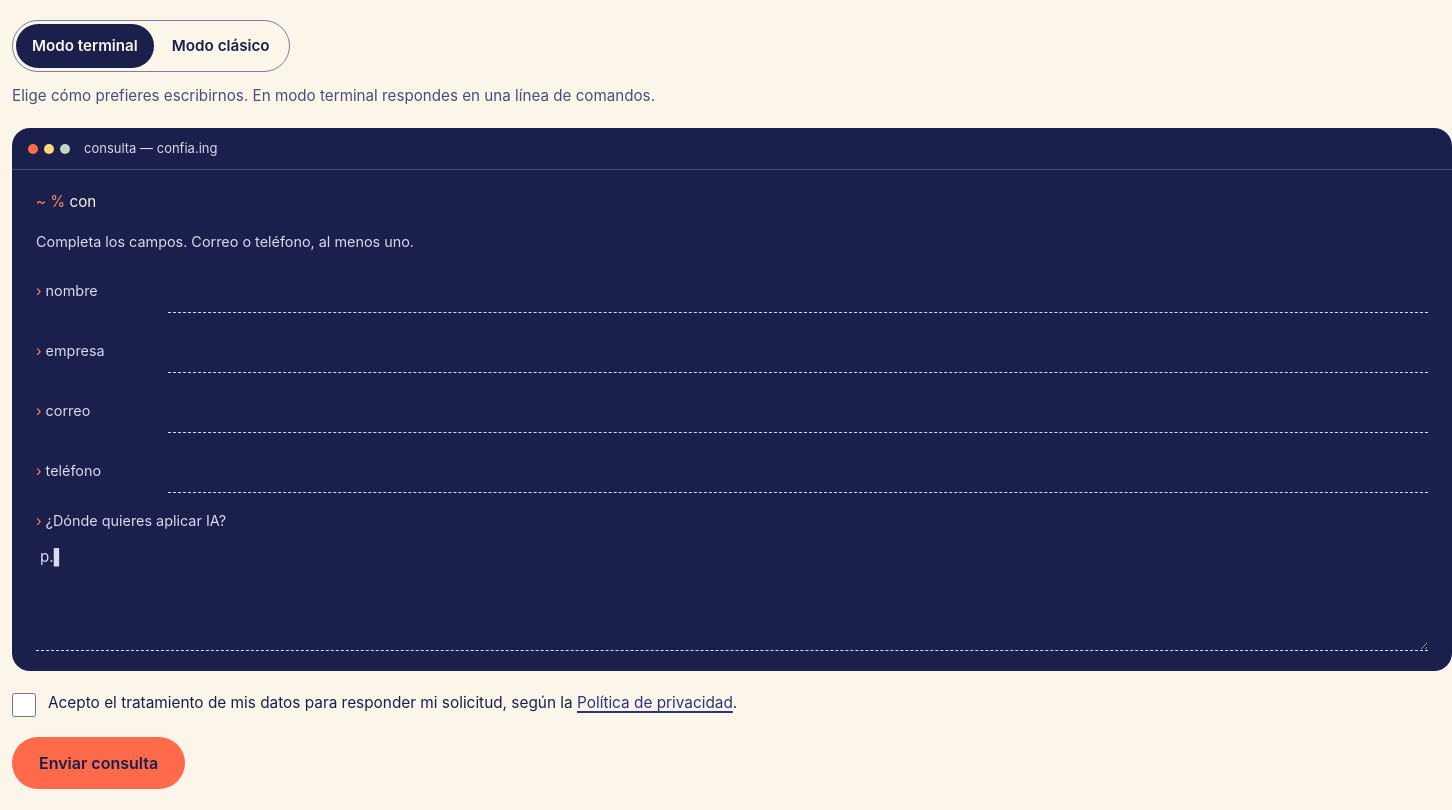
formulario en modo terminal › con dos campos inválidos: cada error junto a su campo, foco al primero, valores conservados y sin petición
Type "Acme" into the field labelled "Empresa". click: (798, 352)
box: [168, 330, 1428, 374]
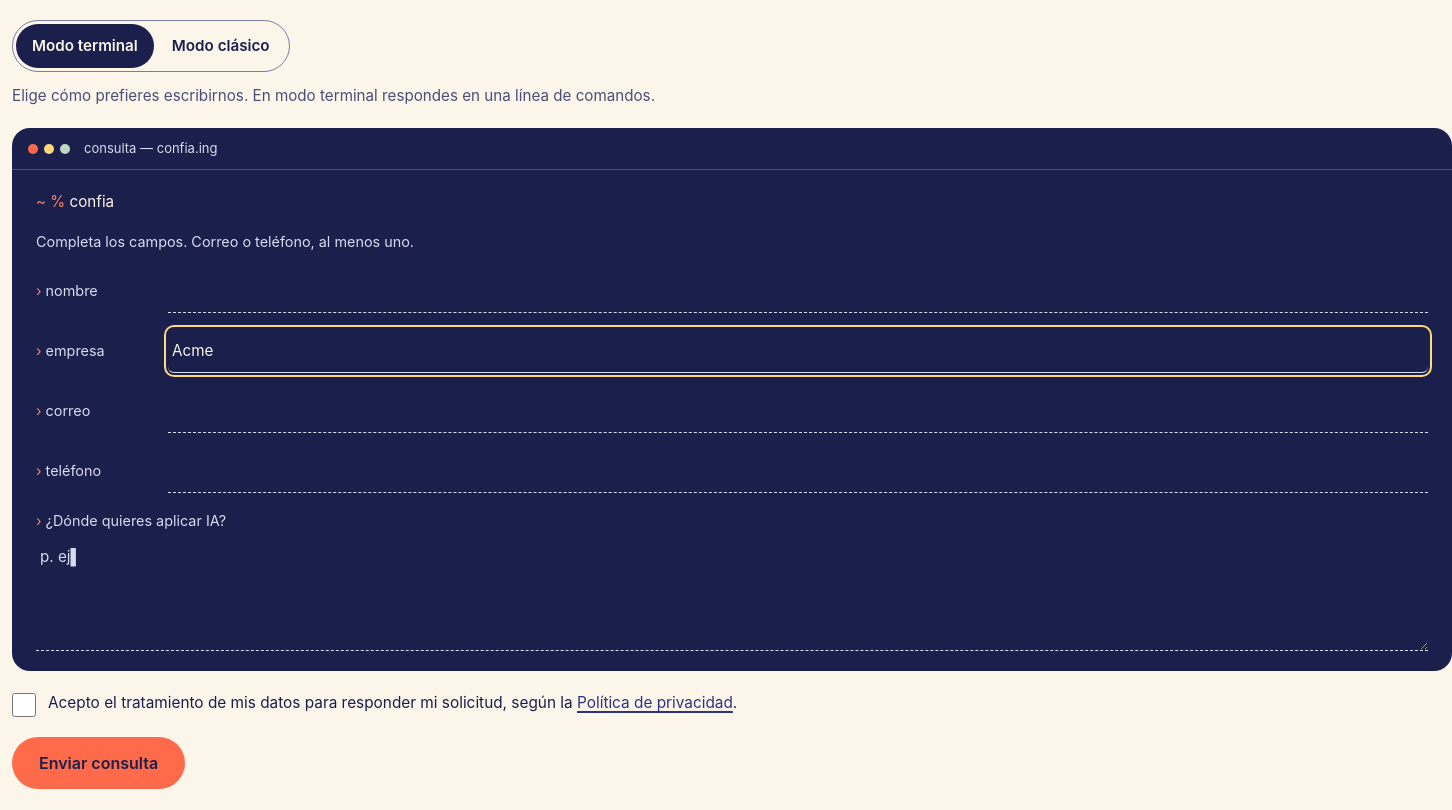
Type "ana@" into the field labelled "Correo". click: (798, 412)
box: [168, 390, 1428, 434]
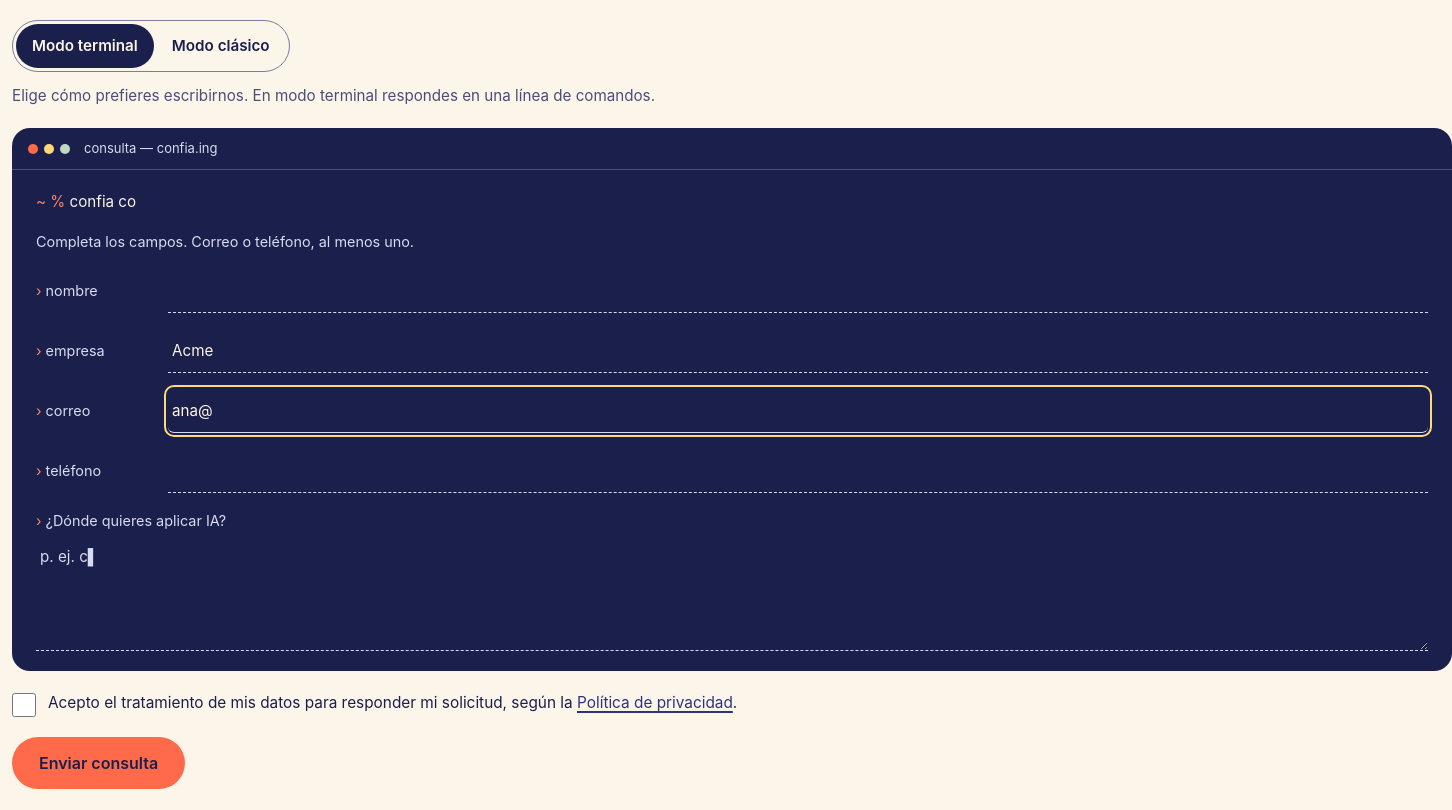
Type "Conciliar facturas" into the text box labelled "¿Dónde quieres aplicar IA?". click: (732, 594)
box: [36, 536, 1428, 651]
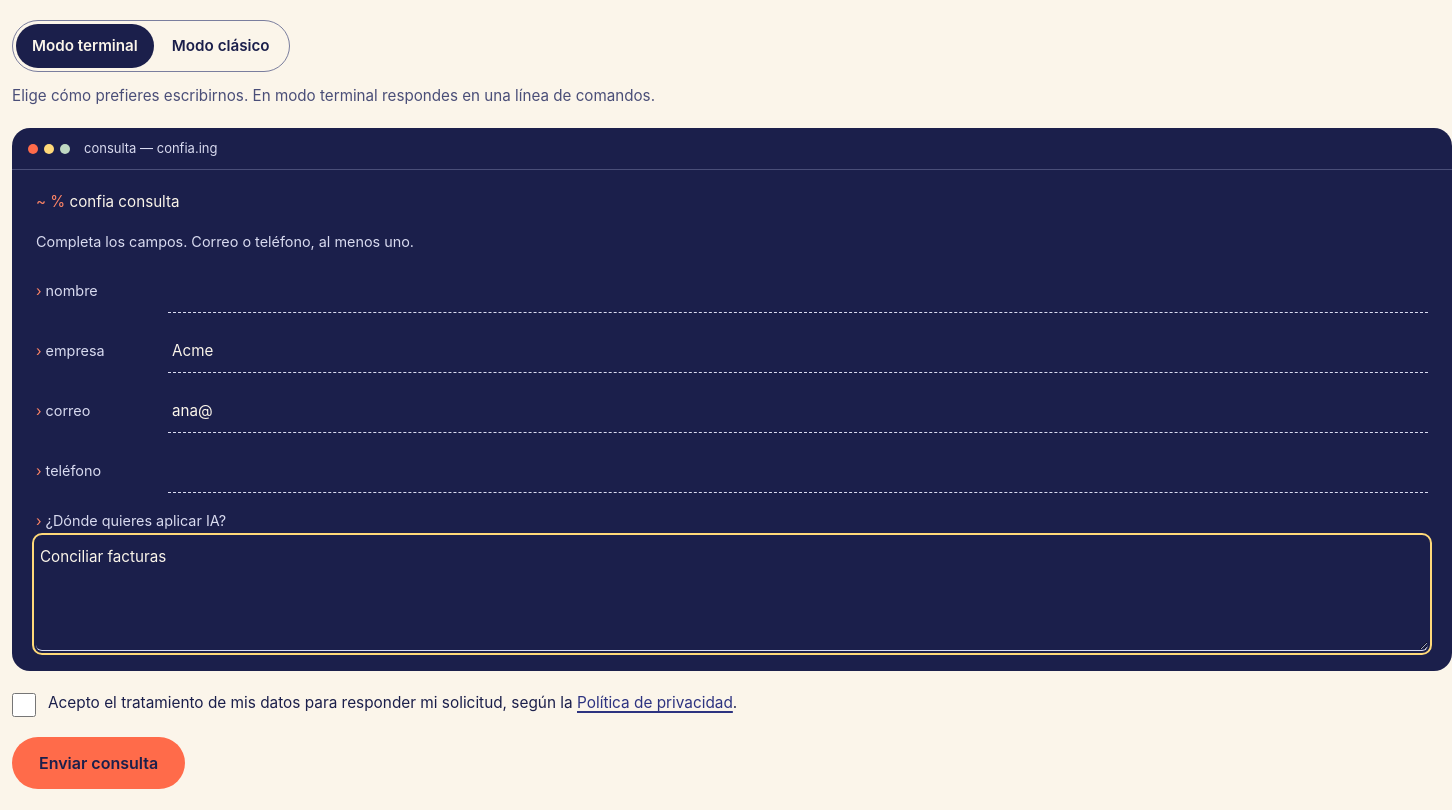
Click the button "Enviar consulta". click: (99, 763)
box: [12, 737, 185, 789]
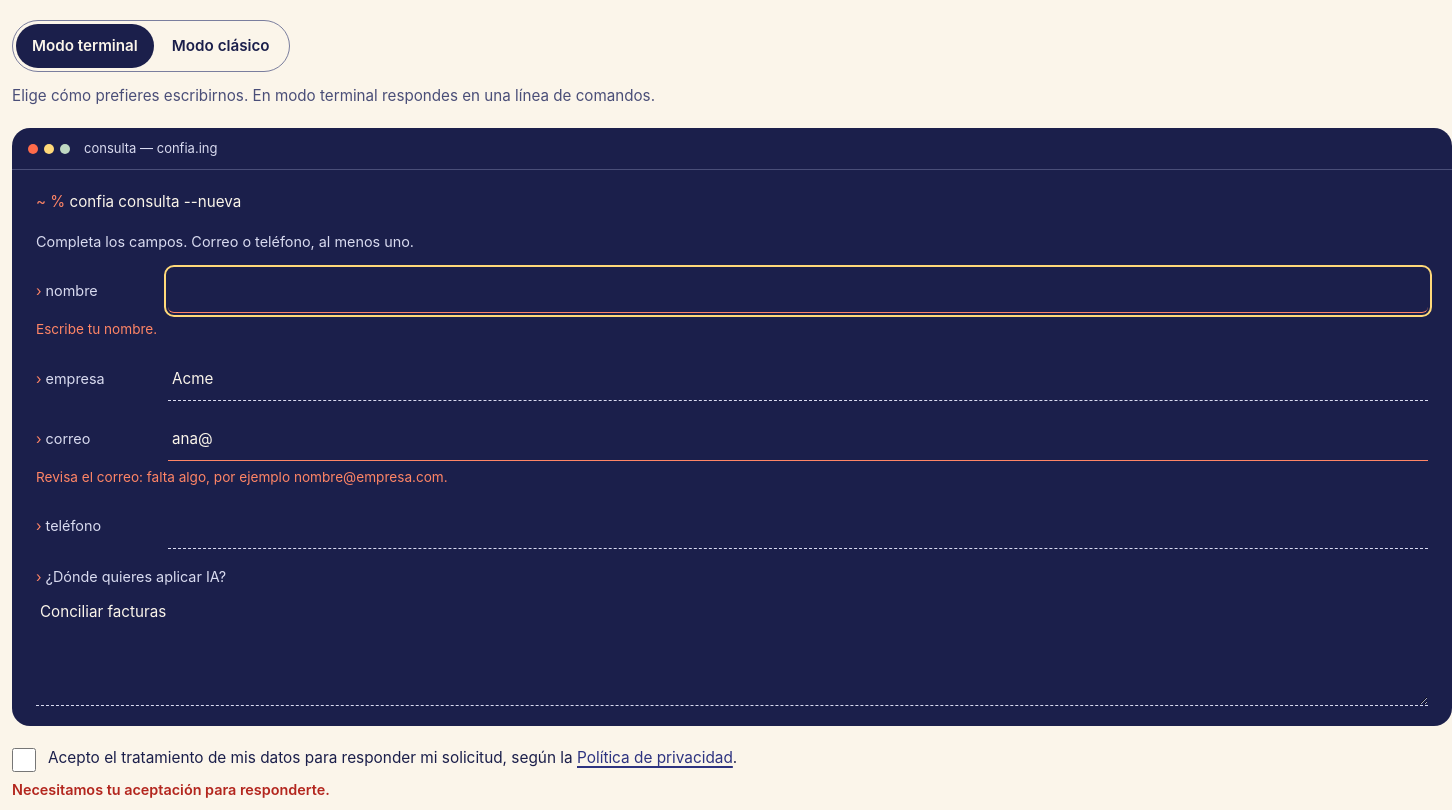
Now the field labelled "Correo" is marked as invalid, box [168, 417, 1428, 461]
